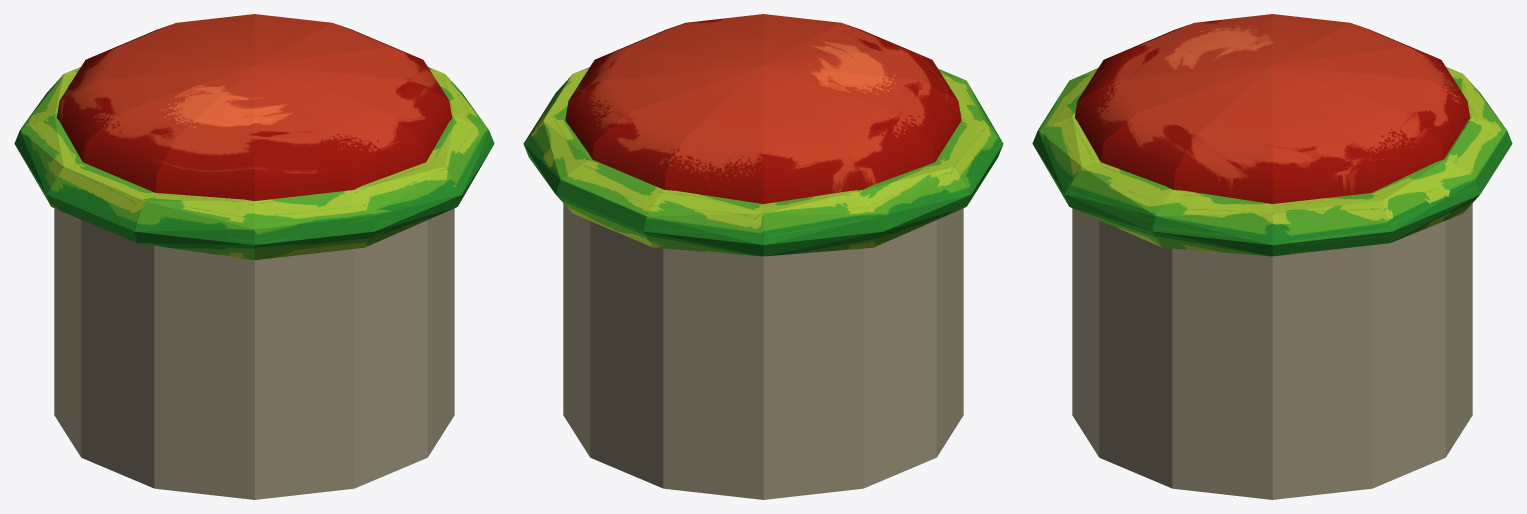
File: hatake.fbx
3 views of the same model, side by side, from view 1: azimuth 30°, elevation 25°; view 2: azimuth 150°, elevation 25°; view 3: azimuth 270°, elevation 25° (orthographic).
Parts seen in each view (by area): view 1: polySurface377, polySurface375, polySurface376; view 2: polySurface377, polySurface375, polySurface376; view 3: polySurface377, polySurface375, polySurface376.
Boxes of the visible parts, x1,y1,x2,y2 form: polySurface377: [54, 208, 454, 499]; polySurface375: [56, 14, 452, 200]; polySurface376: [14, 67, 494, 260]; polySurface377: [563, 203, 963, 499]; polySurface375: [565, 14, 961, 203]; polySurface376: [523, 67, 1003, 256]; polySurface377: [1072, 203, 1472, 499]; polySurface375: [1074, 14, 1470, 203]; polySurface376: [1032, 67, 1512, 256].
Bounding box in the file's own units: 322 × 259 × 322.
3 materials, 2 textured.
